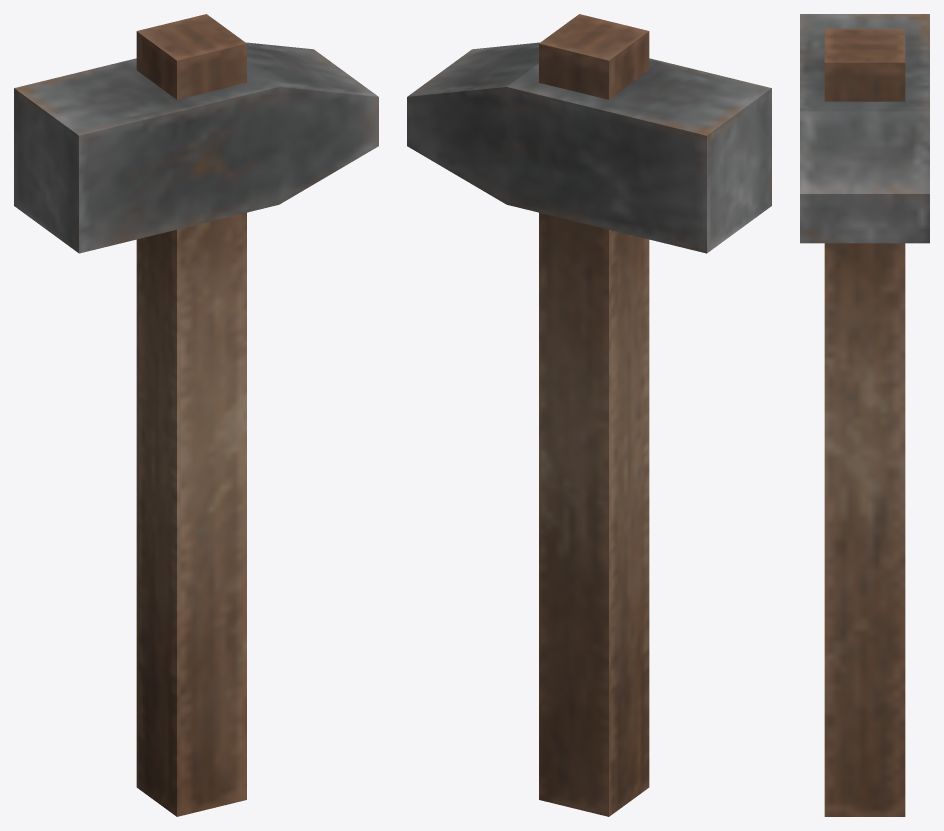
Rendered from Hammer.fbx.
3 views of the same model, side by side, from view 1: azimuth 30°, elevation 25°; view 2: azimuth 150°, elevation 25°; view 3: azimuth 270°, elevation 25° (orthographic).
Parts seen in each view (by area): view 1: Hammer; view 2: Hammer; view 3: Hammer.
Part boxes in pixels (x1,y1,x2,y2): Hammer: (14,14,378,816); Hammer: (407,14,771,816); Hammer: (800,14,929,816).
Bounding box in the file's own units: 20.17 × 48.64 × 7.58.
